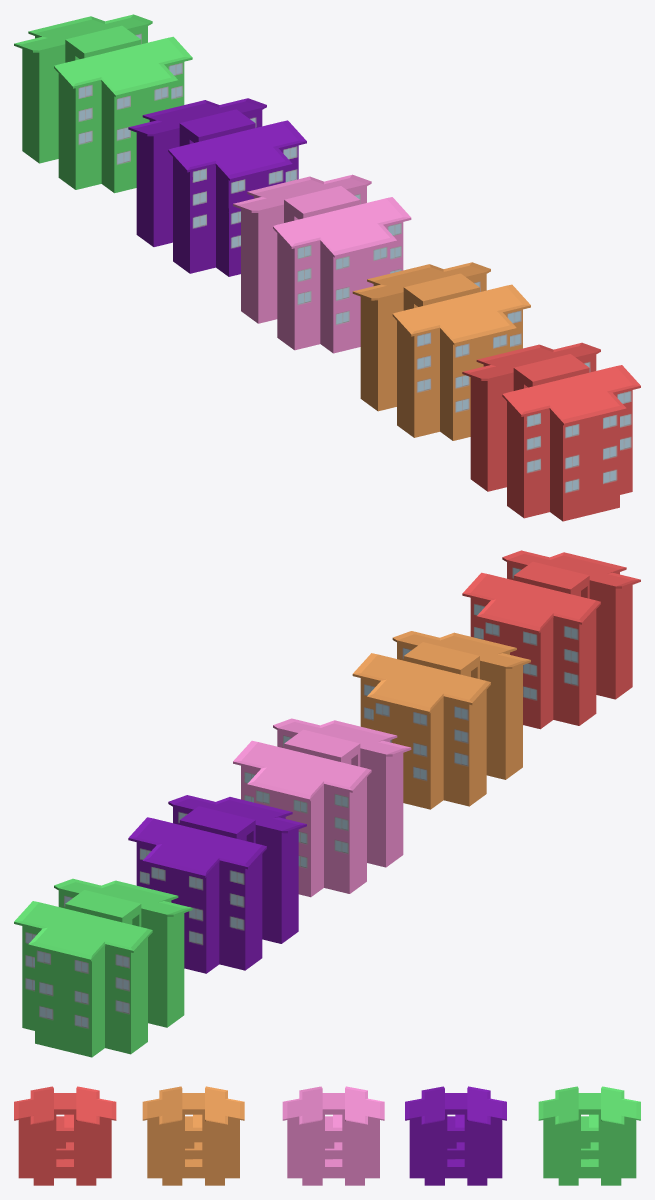
The model's file is CasaColores.fbx.
3 views of the same model, one above another, from view 1: azimuth 30°, elevation 25°; view 2: azimuth 150°, elevation 25°; view 3: azimuth 270°, elevation 25° (orthographic). The views are drawn at different scales.
Visible parts, largest first — view 1: Cube.007, Cube.009, Cube.012, Cube.008, Cube.011; view 2: Cube.012, Cube.008, Cube.011, Cube.007, Cube.009; view 3: Cube.007, Cube.012, Cube.011, Cube.009, Cube.008.
Part boxes in pixels (x1,y1,x2,y2): Cube.007: (462,342,640,521); Cube.009: (233,174,411,353); Cube.012: (14,14,192,193); Cube.008: (352,262,530,440); Cube.011: (128,98,306,276); Cube.012: (14,878,192,1057); Cube.008: (352,631,530,809); Cube.011: (128,795,306,973); Cube.007: (462,550,640,729); Cube.009: (233,718,411,897); Cube.007: (14,1086,116,1185); Cube.012: (538,1086,640,1185); Cube.011: (405,1086,506,1185); Cube.009: (282,1086,384,1185); Cube.008: (142,1086,244,1185).
Bounding box in the file's own units: 1696 × 1595 × 13148.
5 materials, 5 textured.
